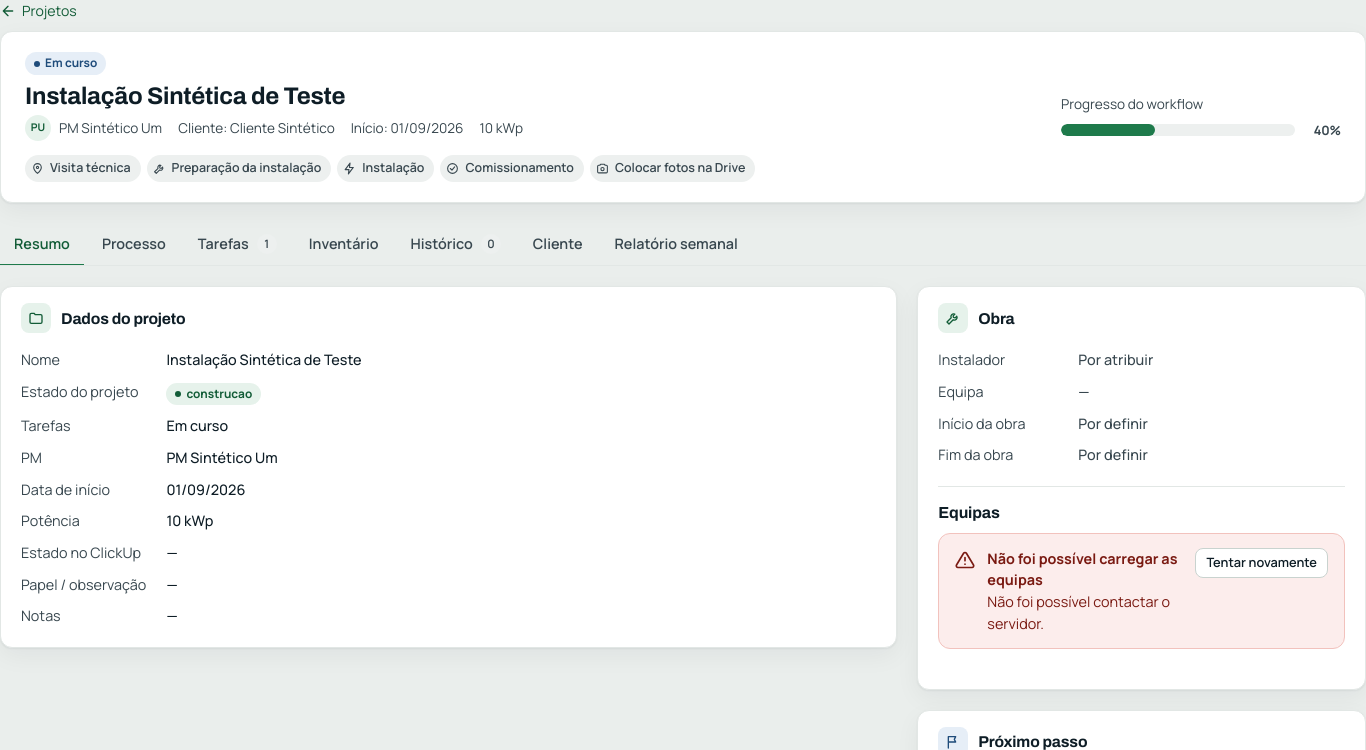
Detalhe do projeto — material no local › mostra erro e retry quando o refresh do inventário falha sem perder o projeto
Expected: the heading "Instalação Sintética de Teste" is shown, [25,83,345,109]
Click the tab "Inventário" at coordinates (344, 245), box [295,223,393,266]
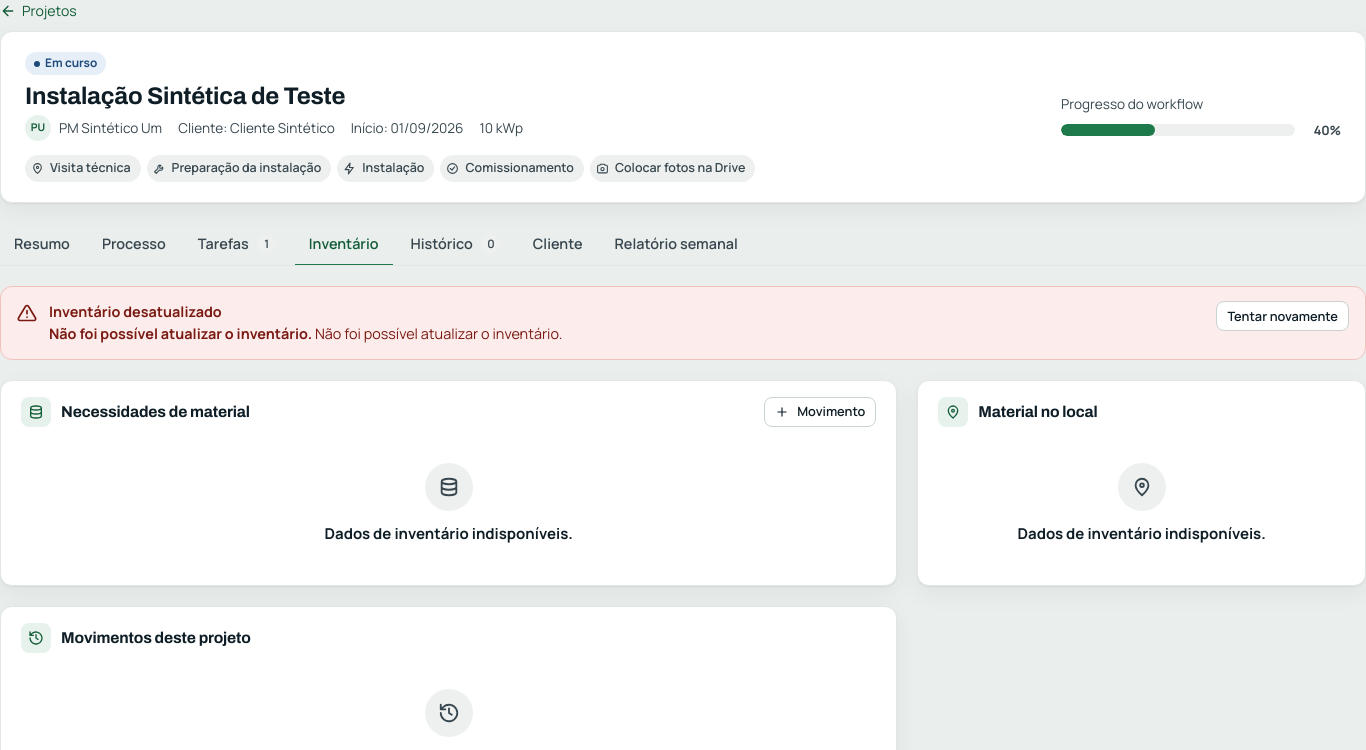
Expected: the heading "Instalação Sintética de Teste" is shown, [25,83,345,109]
Result: the message shows "Não foi possível atualizar o inventário." at [49,324,312,343]
Click the button "Tentar novamente" at coordinates (1283, 316), box [1216,301,1349,331]
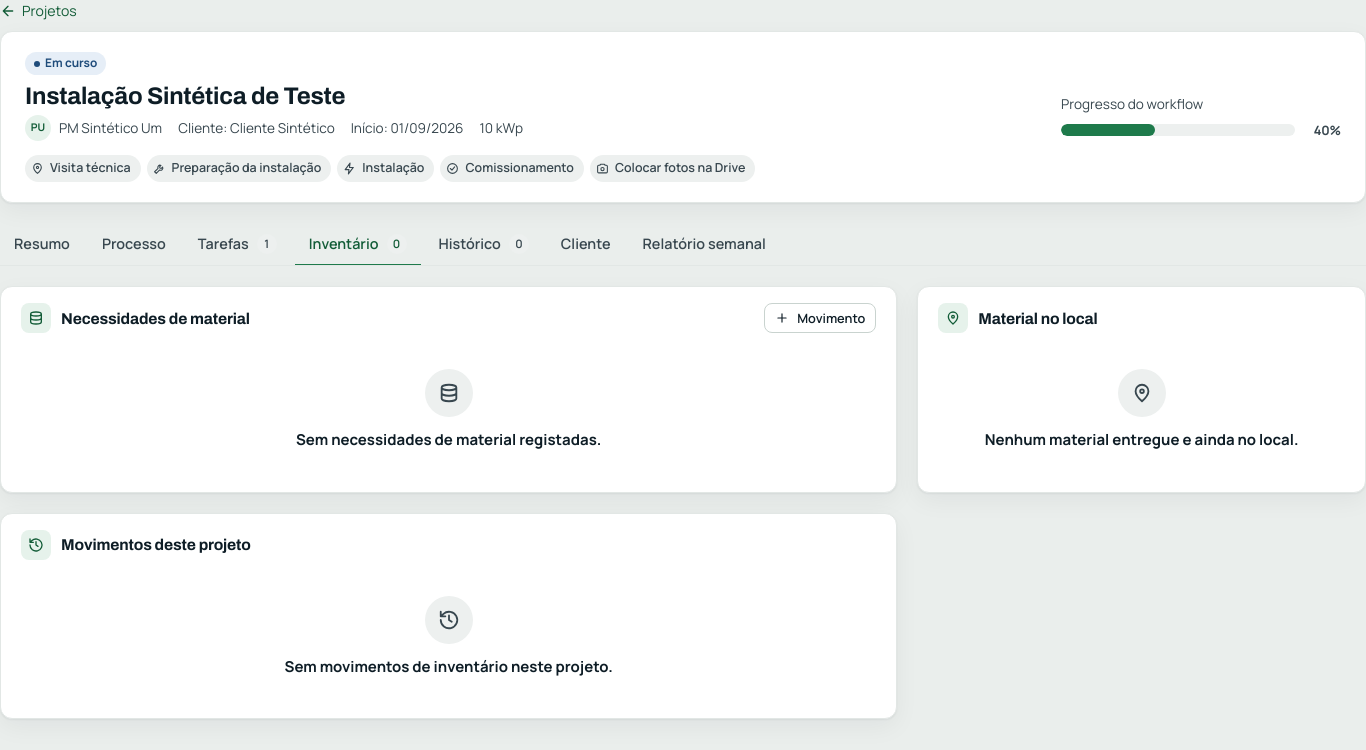
Result: the text "Não foi possível atualizar o inventário." is gone
